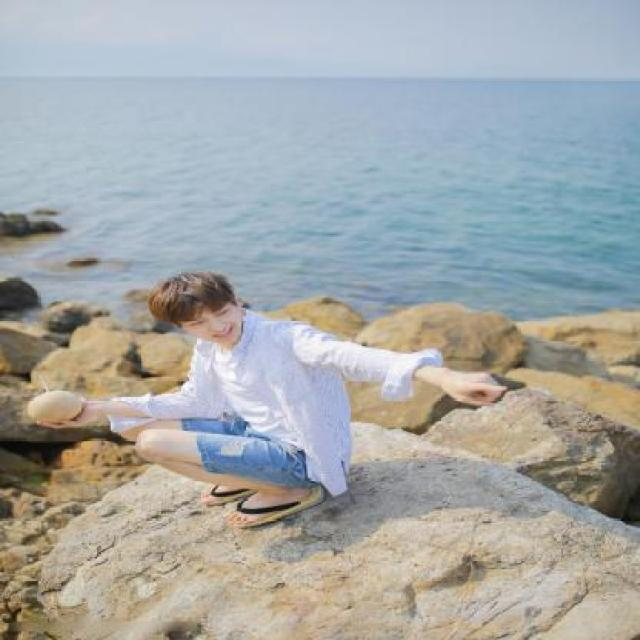Person: (32, 259, 537, 535)
